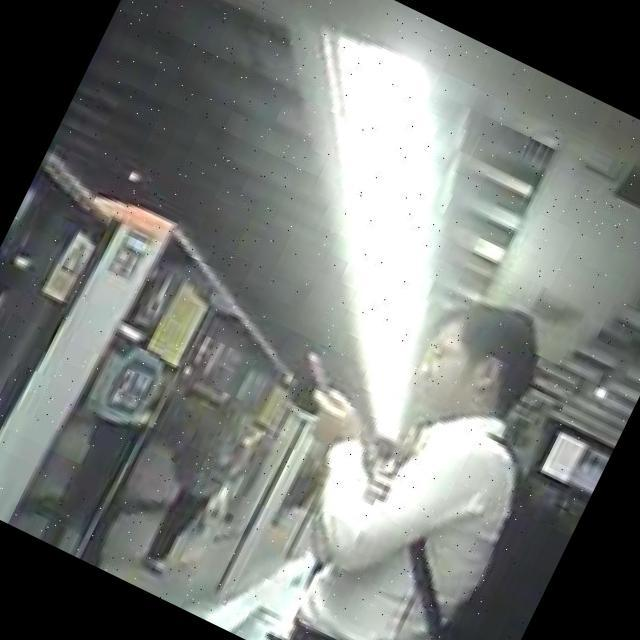person: (201, 241, 596, 640)
